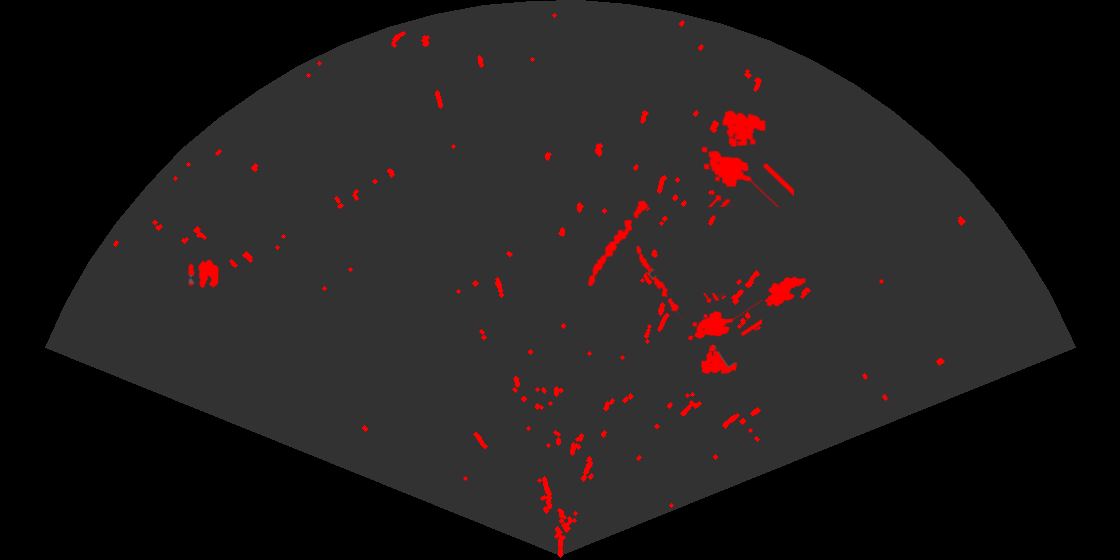AUV: (763, 275, 807, 308)
ball: (187, 258, 220, 290)
cage: (700, 109, 794, 207), (687, 293, 762, 376)
chain: (586, 199, 650, 288), (635, 244, 685, 320)
